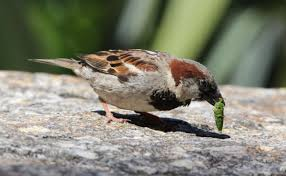hsparrow: (23, 47, 229, 126)
